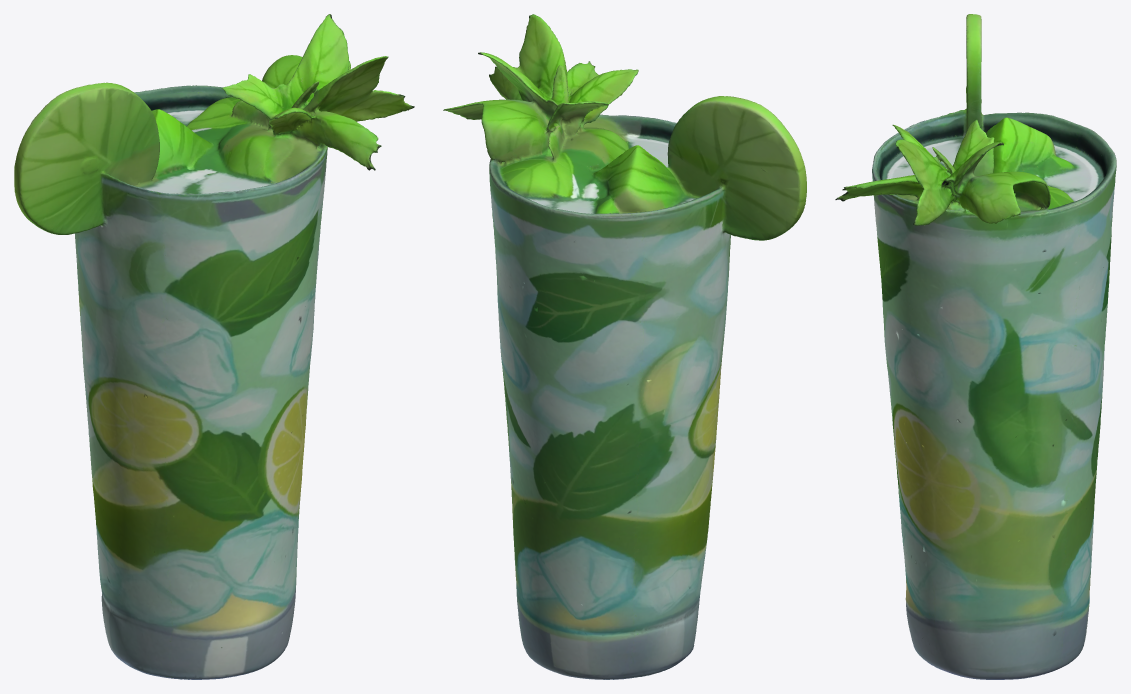
File: thesarau_mojito.glb
The picture shows the model from 3 angles, left to right: view 1: azimuth 30°, elevation 25°; view 2: azimuth 150°, elevation 25°; view 3: azimuth 270°, elevation 25°; orthographic projection. The views are drawn at different scales.
Size of the model in its own units: 1.28 by 2 by 0.8997.
Materials: 1 (1 with a texture image).
